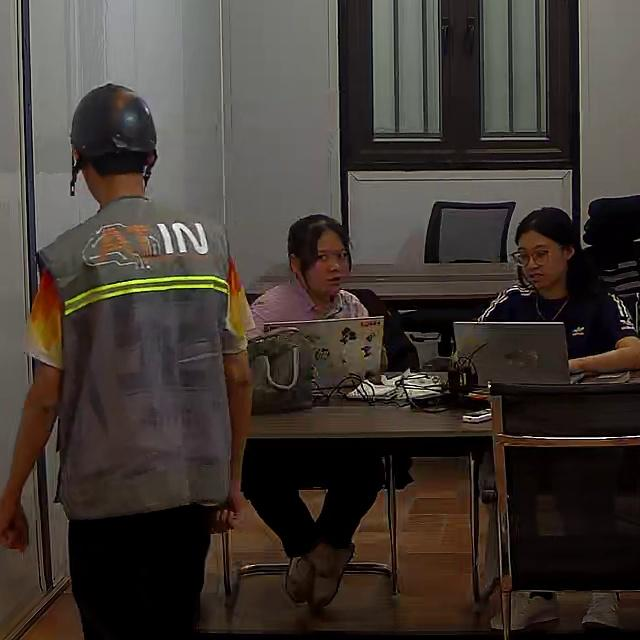helmet: (69, 84, 159, 185)
no_helmet: (286, 213, 353, 284)
none: (475, 281, 635, 360), (246, 280, 369, 339)
vest: (34, 200, 245, 522)
